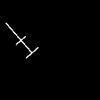double_crochet: (6, 23, 37, 57)
